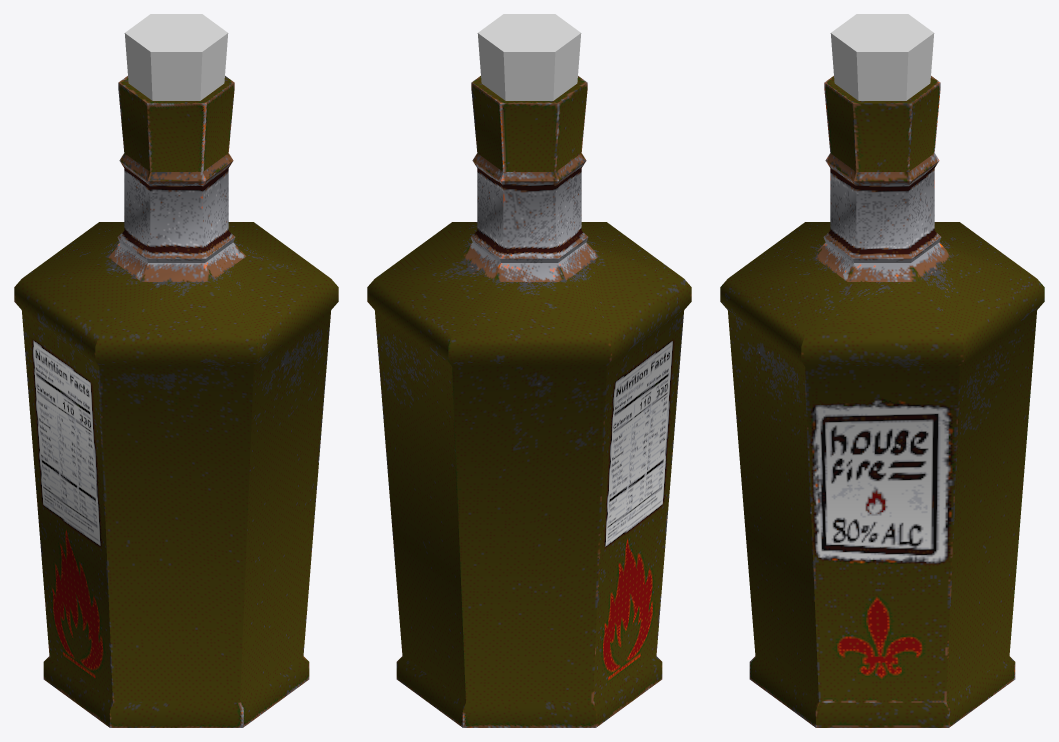
File: HouseFire.fbx
3 renders of one model, left to right at view 1: azimuth 30°, elevation 25°; view 2: azimuth 150°, elevation 25°; view 3: azimuth 270°, elevation 25°, orthographic.
Parts seen in each view (by area): view 1: Cylinder, Cylinder.001; view 2: Cylinder, Cylinder.001; view 3: Cylinder, Cylinder.001.
Boxes of the visible parts, <box> form: Cylinder: <box>14,76,338,727</box>; Cylinder.001: <box>124,14,228,100</box>; Cylinder: <box>367,76,691,727</box>; Cylinder.001: <box>477,14,581,100</box>; Cylinder: <box>720,76,1044,727</box>; Cylinder.001: <box>830,14,934,100</box>.
Size of the model in its own units: 9.05 by 23.19 by 10.45.
